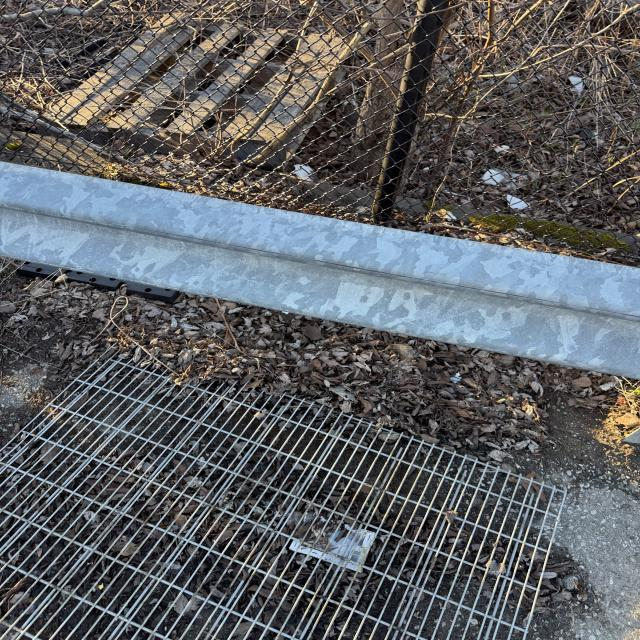Guard rail: (7, 170, 610, 354)
